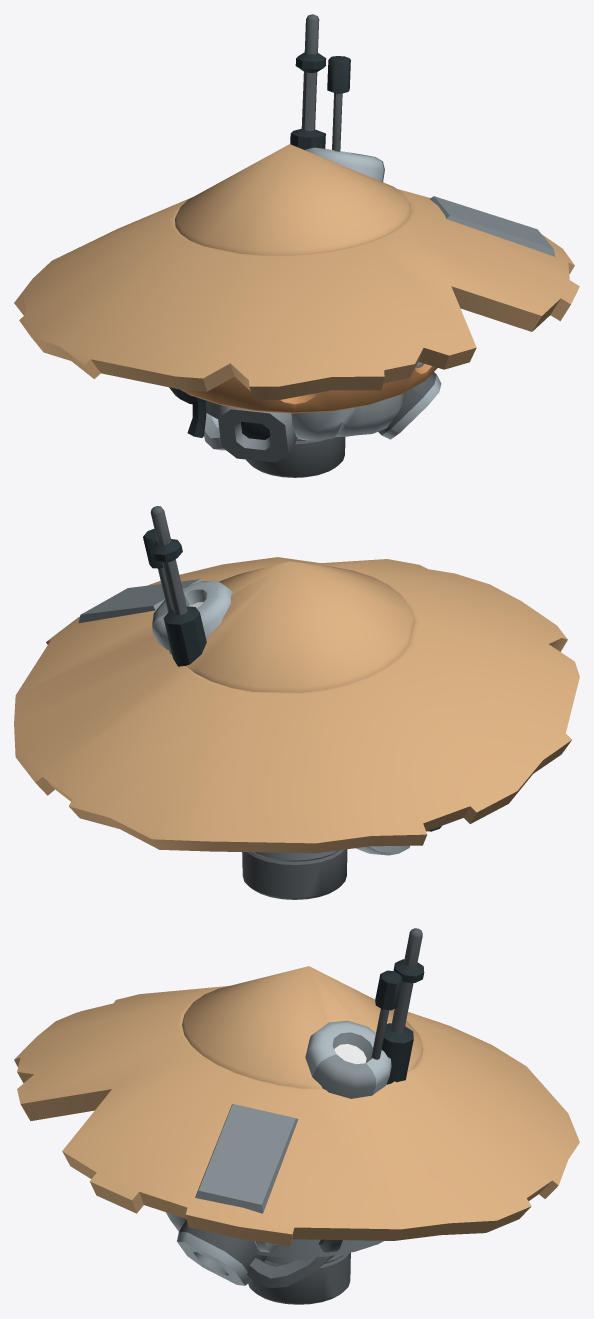
Rendered from character_scrapbot_headHat.dae.
3 renders of one model, top to bottom at view 1: azimuth 30°, elevation 25°; view 2: azimuth 150°, elevation 25°; view 3: azimuth 270°, elevation 25°, orthographic. The views are drawn at different scales.
Visible parts, largest first — view 1: character_scrapbot_headHat, Cube.243; view 2: character_scrapbot_headHat; view 3: character_scrapbot_headHat.
Boxes of the visible parts, x1,y1,x2,y2 form: character_scrapbot_headHat: [14, 14, 579, 477]; Cube.243: [291, 392, 405, 440]; character_scrapbot_headHat: [14, 506, 579, 899]; character_scrapbot_headHat: [14, 928, 579, 1304].
Size of the model in its own units: 1.78 by 1.76 by 1.35.
